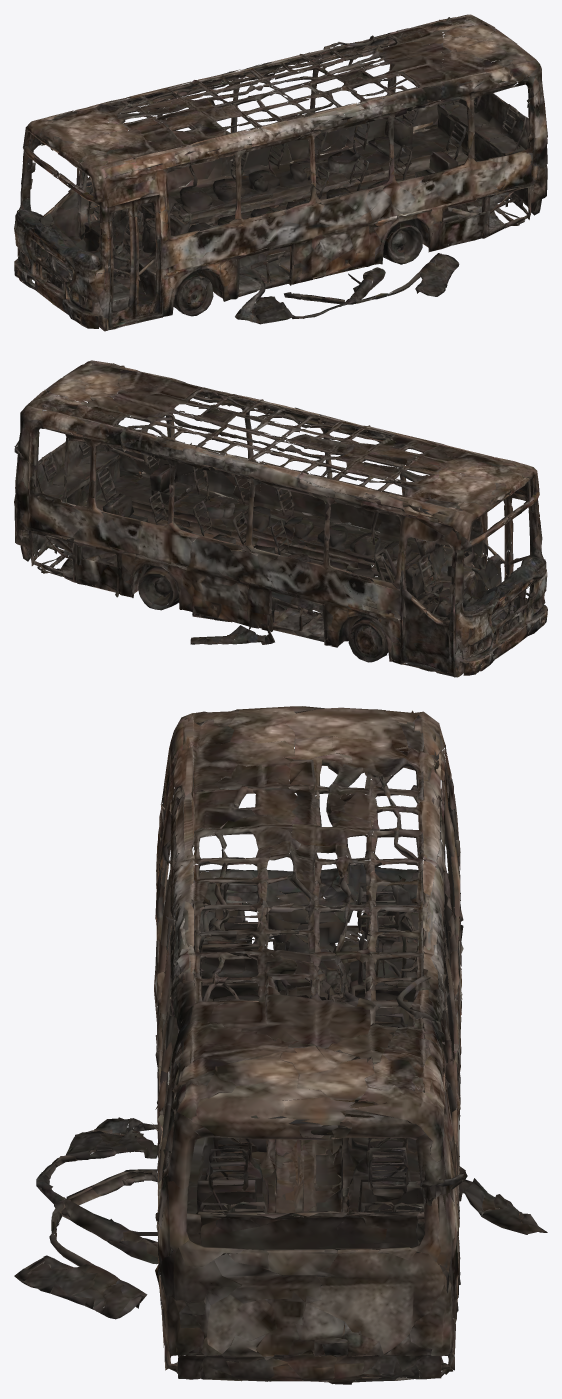
Rendered from blown-up-bus-meshy-v1.glb.
3 views of the same model, one above another, from view 1: azimuth 30°, elevation 25°; view 2: azimuth 150°, elevation 25°; view 3: azimuth 270°, elevation 25° (orthographic). The views are drawn at different scales.
Visible parts, largest first — view 1: Mesh_0; view 2: Mesh_0; view 3: Mesh_0.
Part boxes in pixels (x1,y1,x2,y2): Mesh_0: [14, 14, 547, 331]; Mesh_0: [14, 360, 547, 677]; Mesh_0: [14, 706, 547, 1384].
Bounding box in the file's own units: 1.9 × 0.6906 × 1.02.
1 material, 1 textured.
